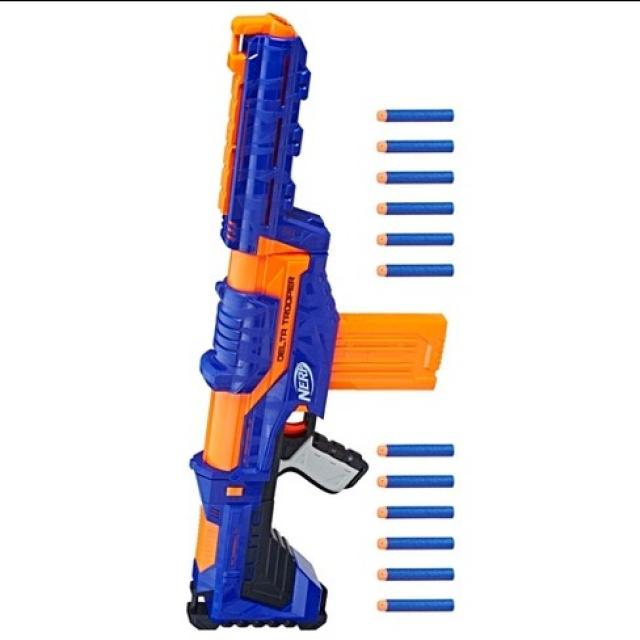Nerf gun: (177, 12, 453, 636)
